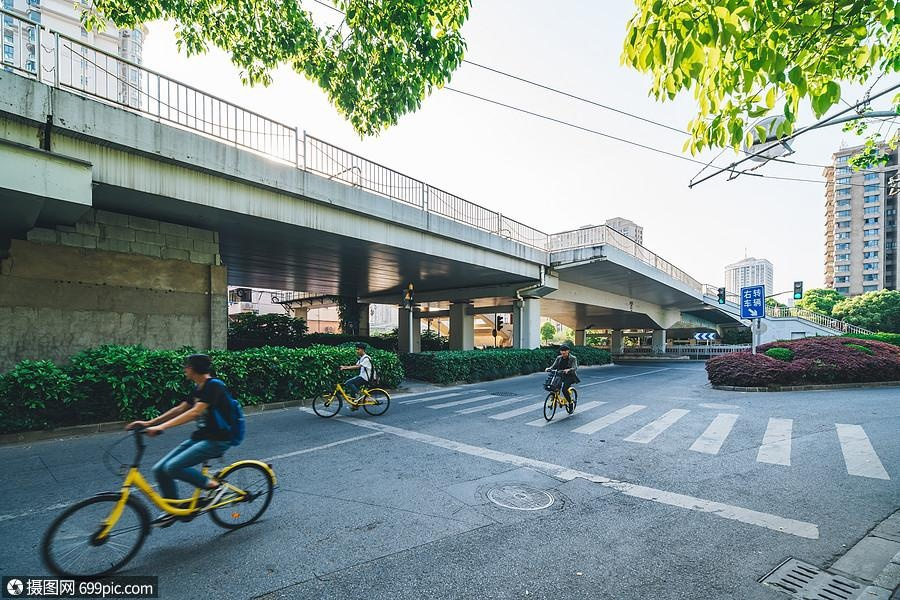non-vehicle: (36, 447, 279, 578), (315, 372, 388, 420), (541, 372, 579, 425)
